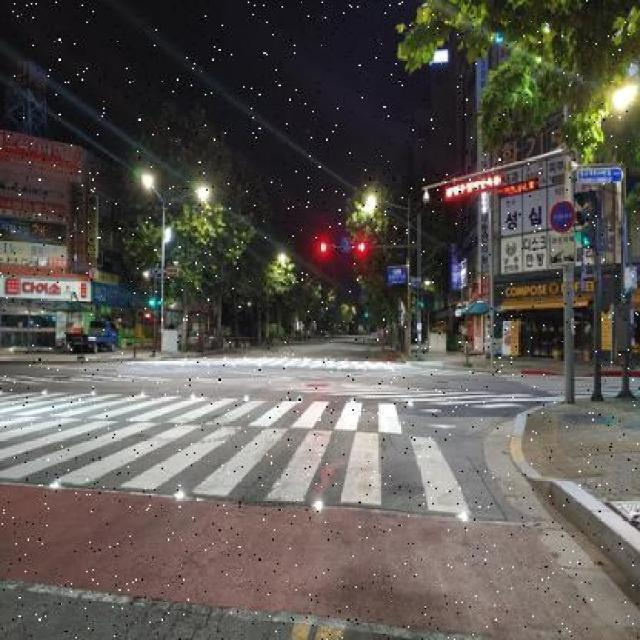crosswalk: (1, 415, 471, 519), (0, 392, 399, 426), (510, 376, 637, 400), (138, 357, 415, 367)
